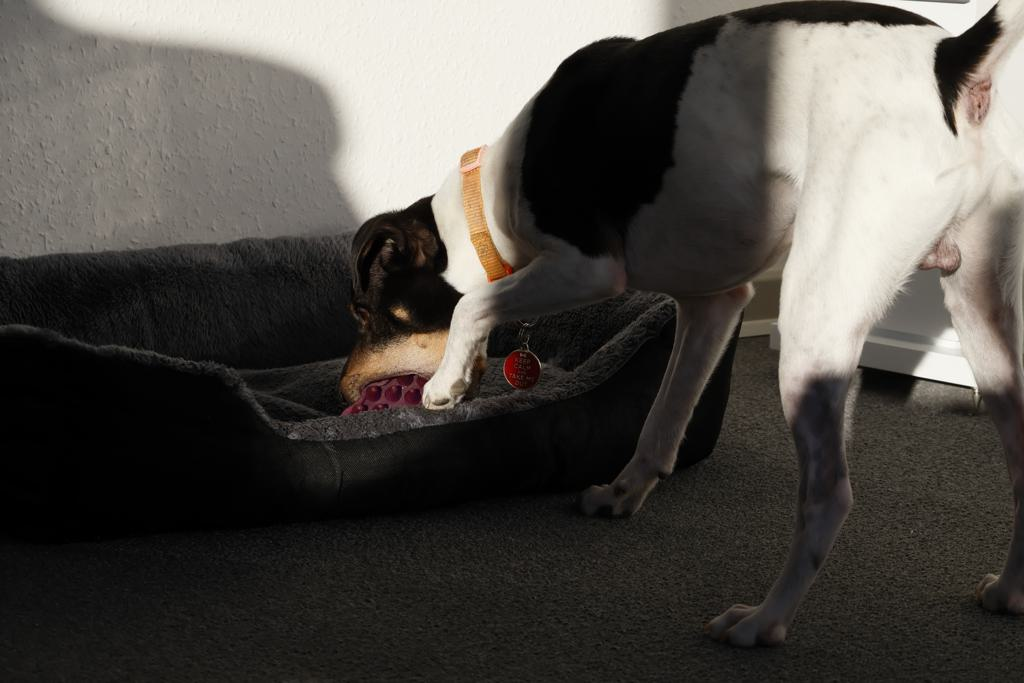Dog: (322, 0, 1024, 656)
